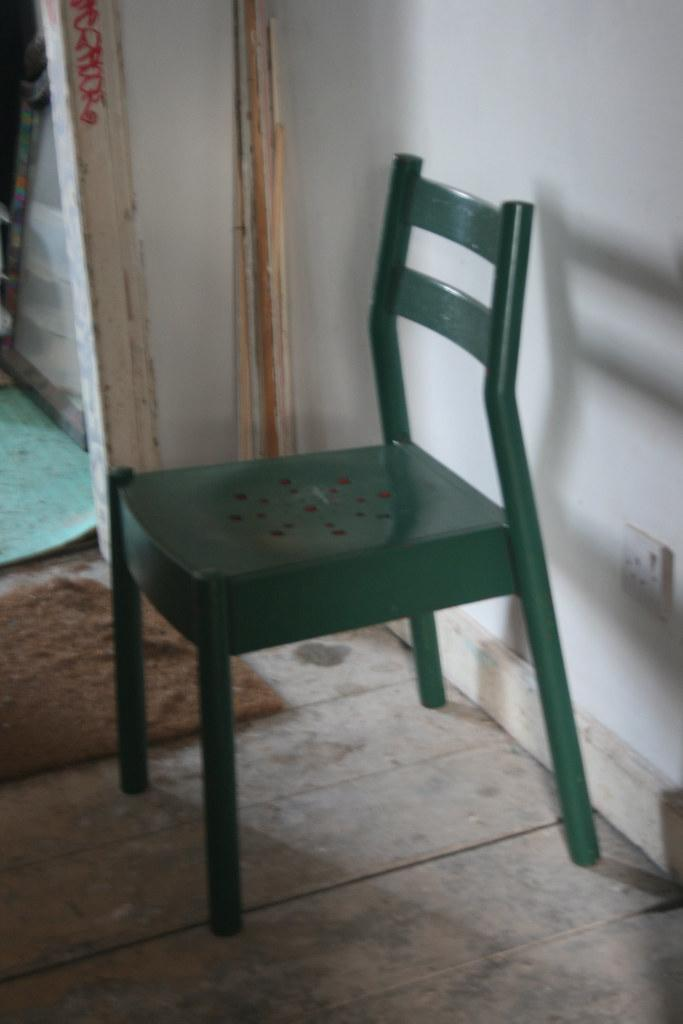chair: (105, 151, 602, 937)
